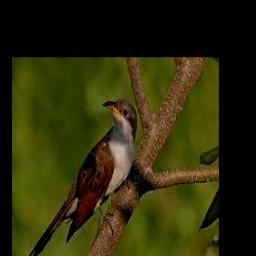Cuckoo: (27, 99, 137, 256)
